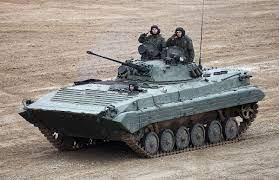person: (167, 25, 198, 59), (138, 25, 165, 52)
tank: (21, 41, 268, 154)
